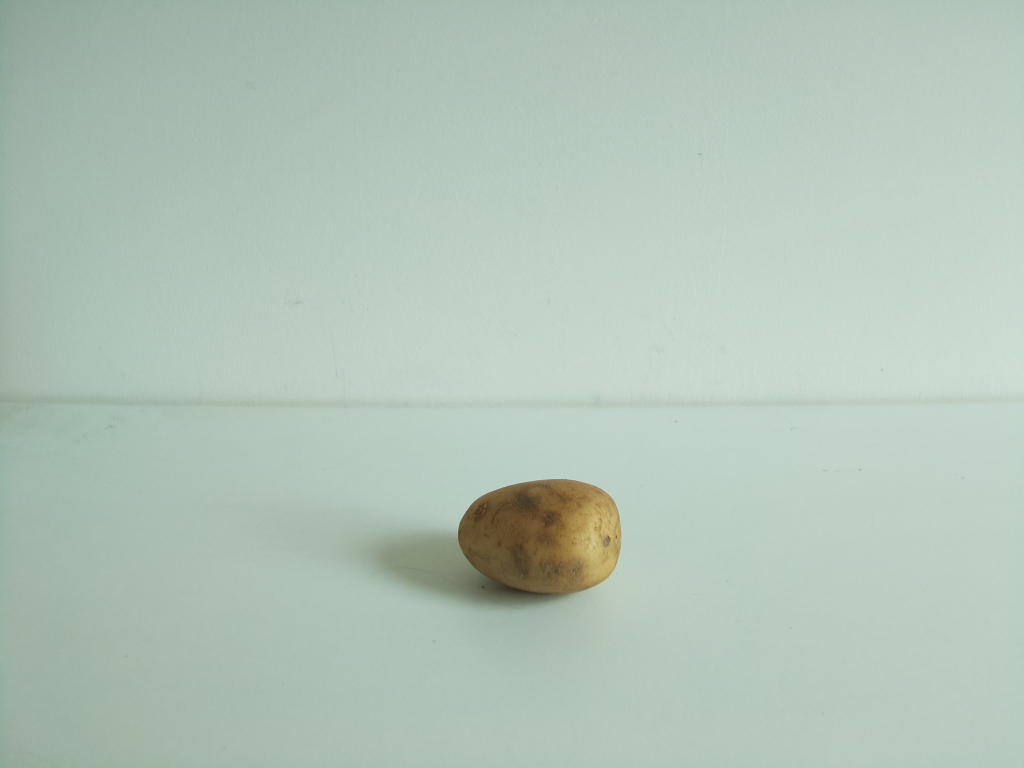potatoes: (459, 477, 624, 596)
